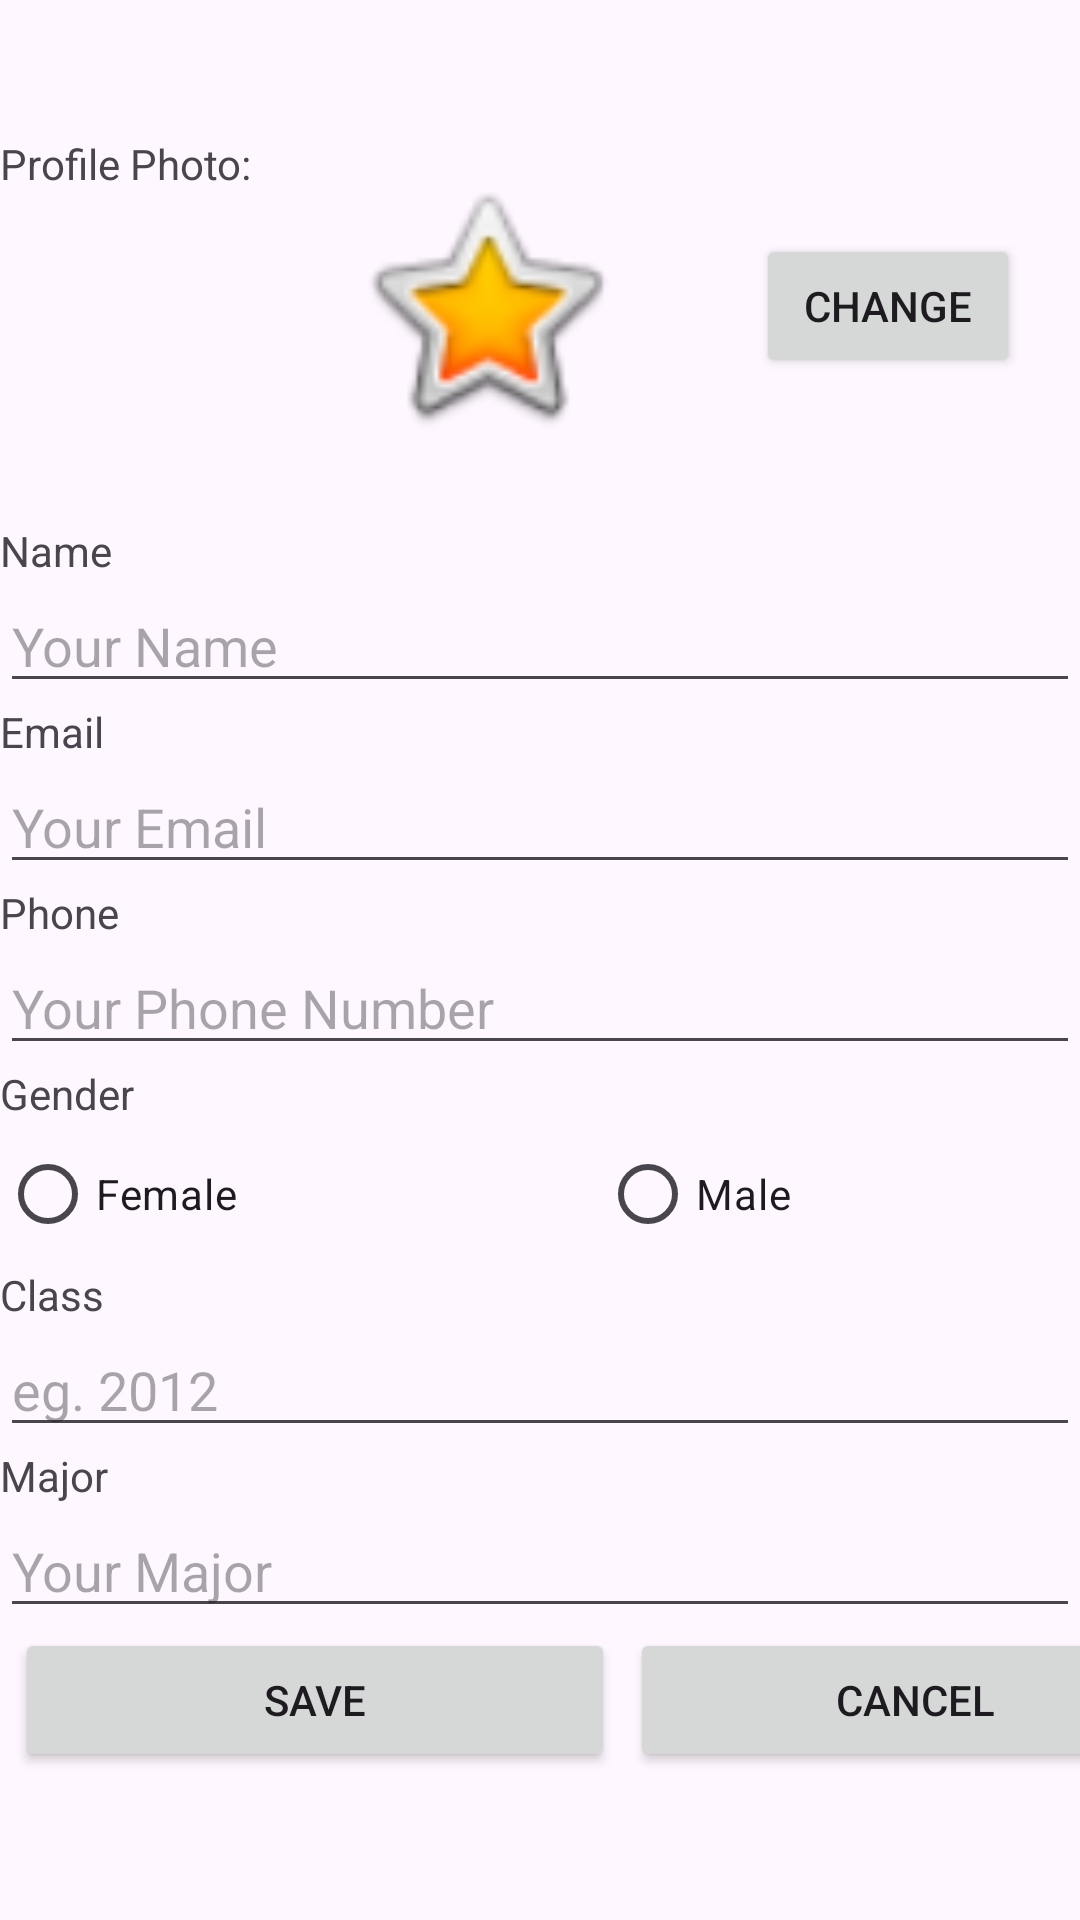

Screen size 1080 x 1920. Icon name, then its box in pixels as (x1, y1, x2, y2):
star on: (373, 196, 604, 421)
